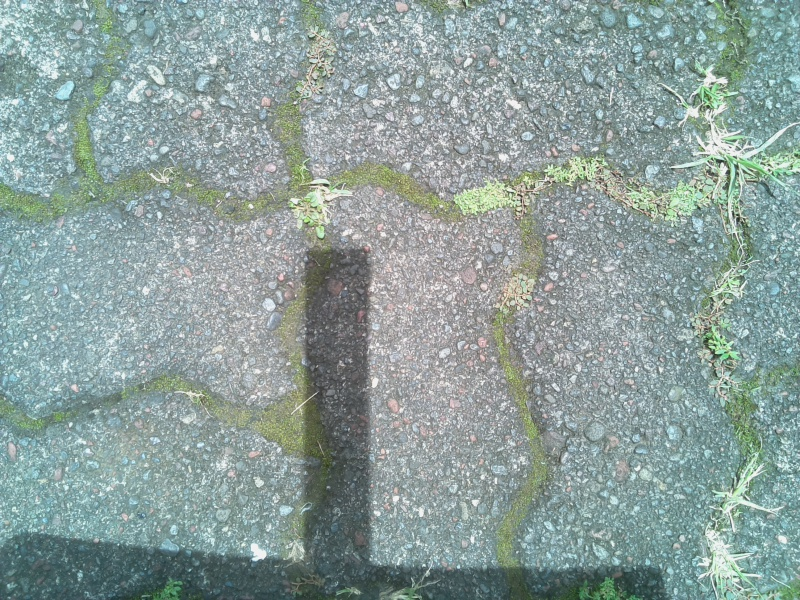Weed: (681, 128, 779, 191), (632, 172, 736, 228), (697, 519, 759, 596), (288, 171, 348, 241), (708, 454, 765, 526), (451, 178, 534, 221), (543, 154, 620, 197), (672, 75, 729, 123), (698, 323, 742, 378)
